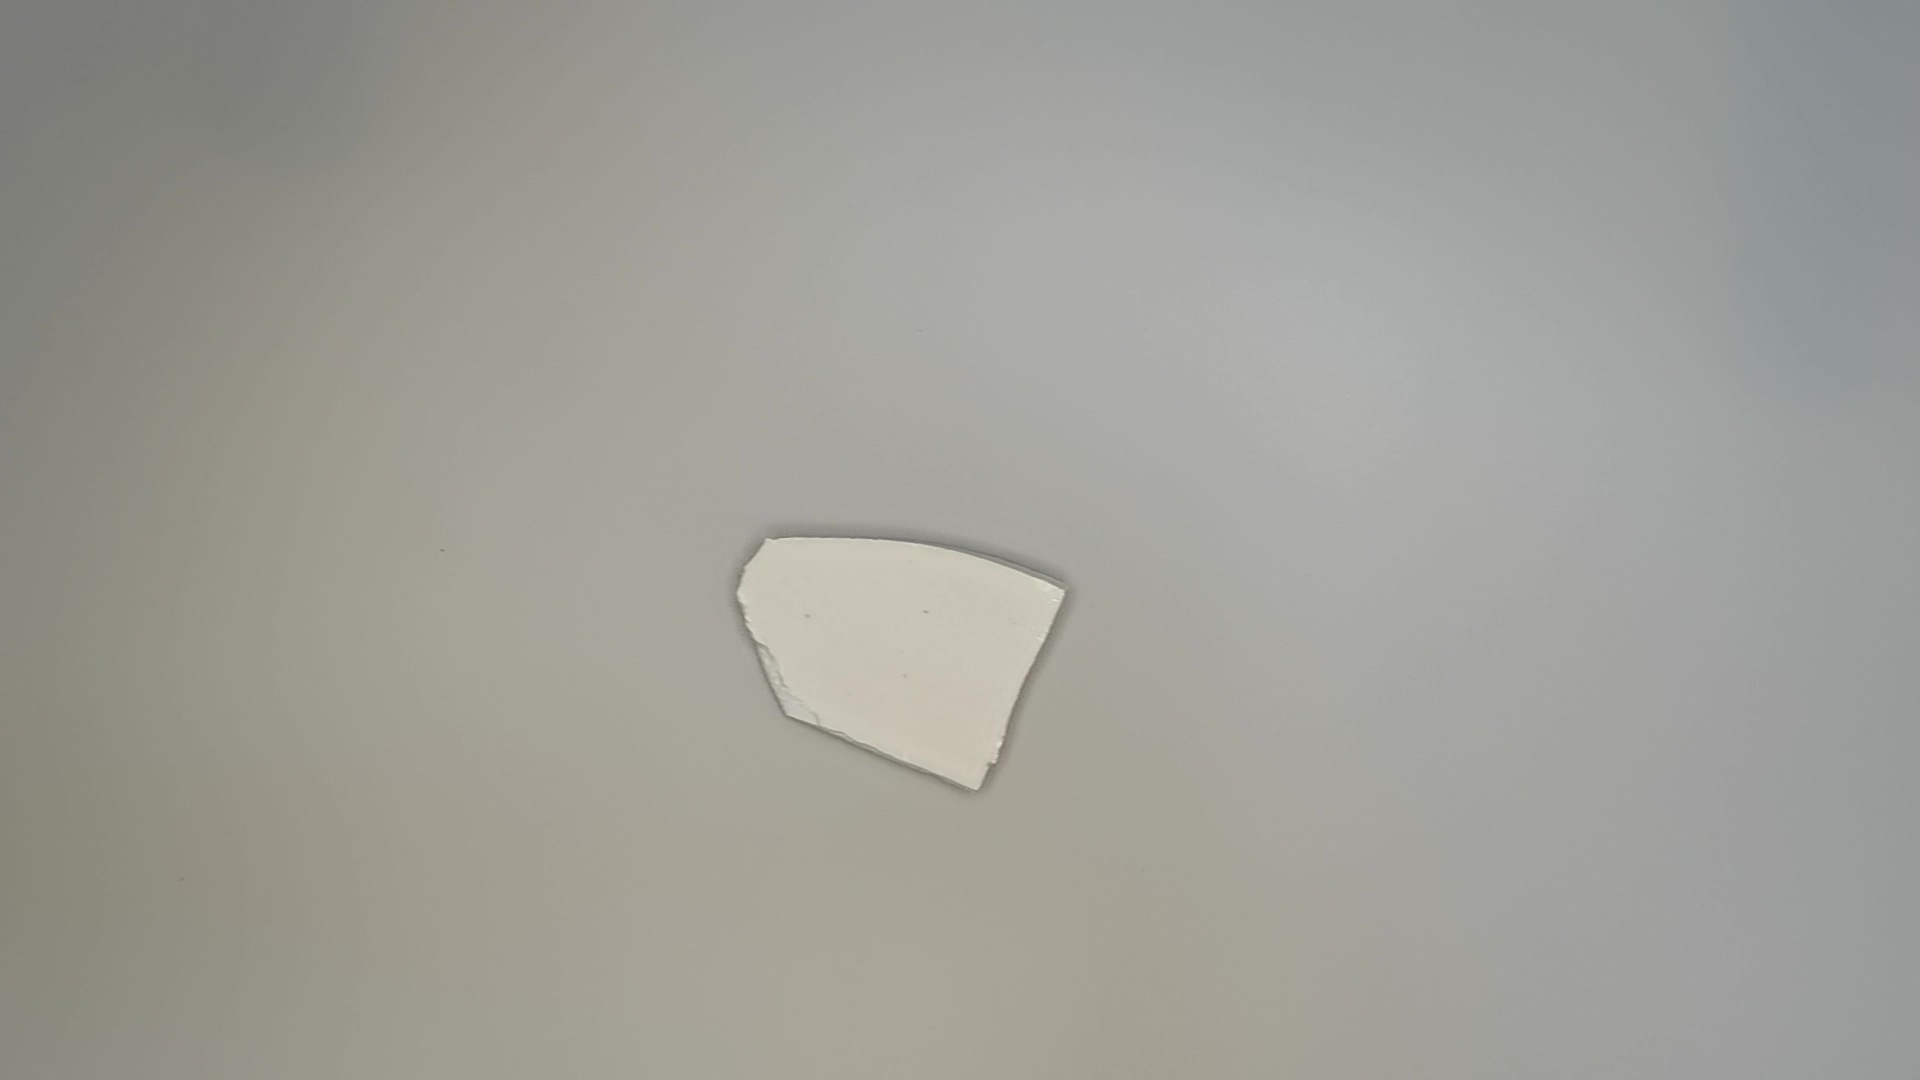ceramic: (728, 530, 1077, 794)
